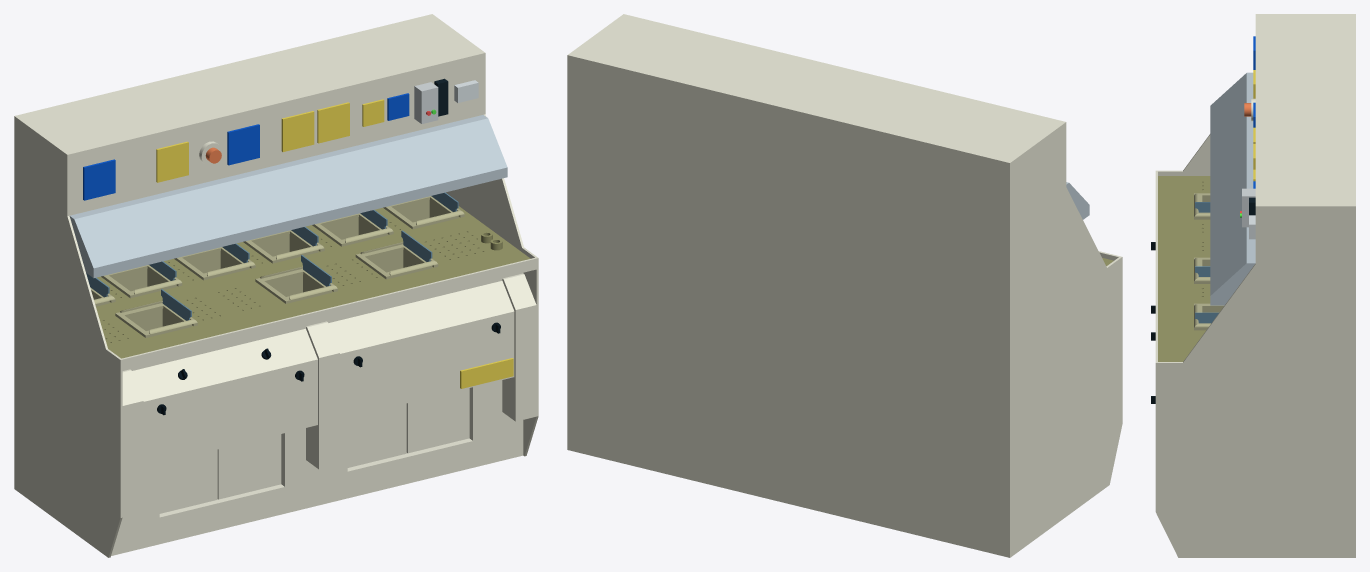
File: wetbench.glb
3 views of the same model, side by side, from view 1: azimuth 30°, elevation 25°; view 2: azimuth 150°, elevation 25°; view 3: azimuth 270°, elevation 25° (orthographic). The views are drawn at different scales.
Visible parts, largest first — view 1: Wetbench V1.0; view 2: Wetbench V1.0; view 3: Wetbench V1.0.
Boxes of the visible parts, left/top/right/bottom form: Wetbench V1.0: left=14, top=14, right=538, bottom=557; Wetbench V1.0: left=567, top=14, right=1122, bottom=557; Wetbench V1.0: left=1151, top=14, right=1355, bottom=557.
Size of the model in its own units: 2 by 1.7 by 0.9.
